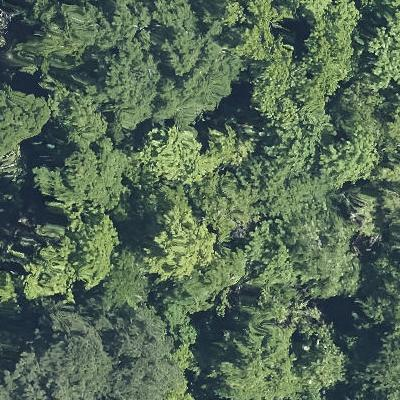tree-top: (3, 310, 179, 399), (217, 293, 347, 399), (28, 138, 130, 219), (13, 1, 100, 80), (130, 123, 234, 185), (103, 40, 166, 133), (138, 213, 223, 280), (302, 2, 362, 96), (224, 155, 314, 216), (287, 208, 348, 286), (50, 80, 114, 154), (67, 213, 120, 297), (186, 38, 246, 108), (154, 3, 211, 76), (0, 85, 57, 158), (216, 0, 279, 66), (315, 121, 377, 187), (21, 236, 75, 304), (167, 273, 216, 344), (234, 228, 285, 291), (352, 332, 400, 398), (250, 56, 294, 126), (101, 247, 147, 311), (366, 17, 400, 88)
